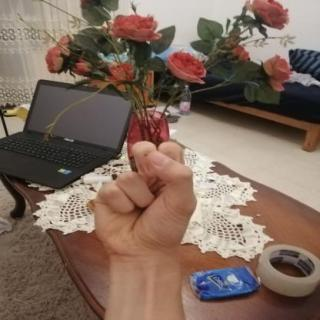QAAF: (81, 133, 207, 264)
